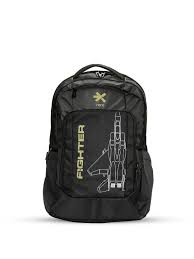backpack: (42, 63, 153, 222)
